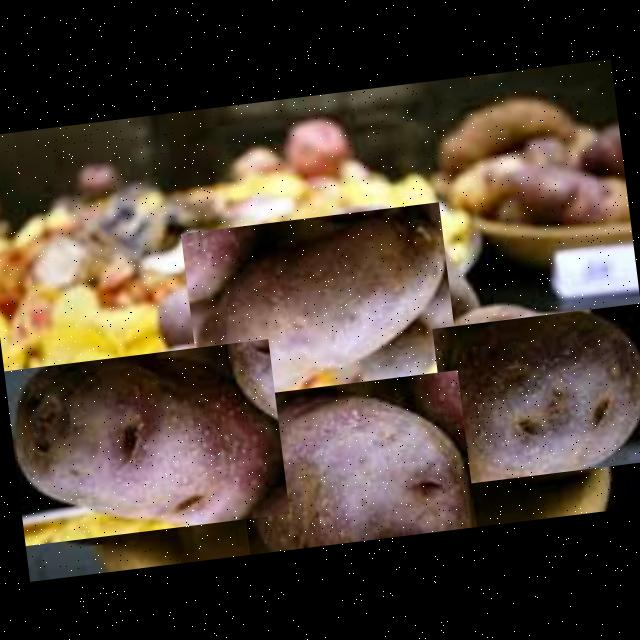Damaged potato: (4, 338, 289, 546), (180, 202, 460, 412), (230, 370, 477, 554), (431, 303, 640, 485)
